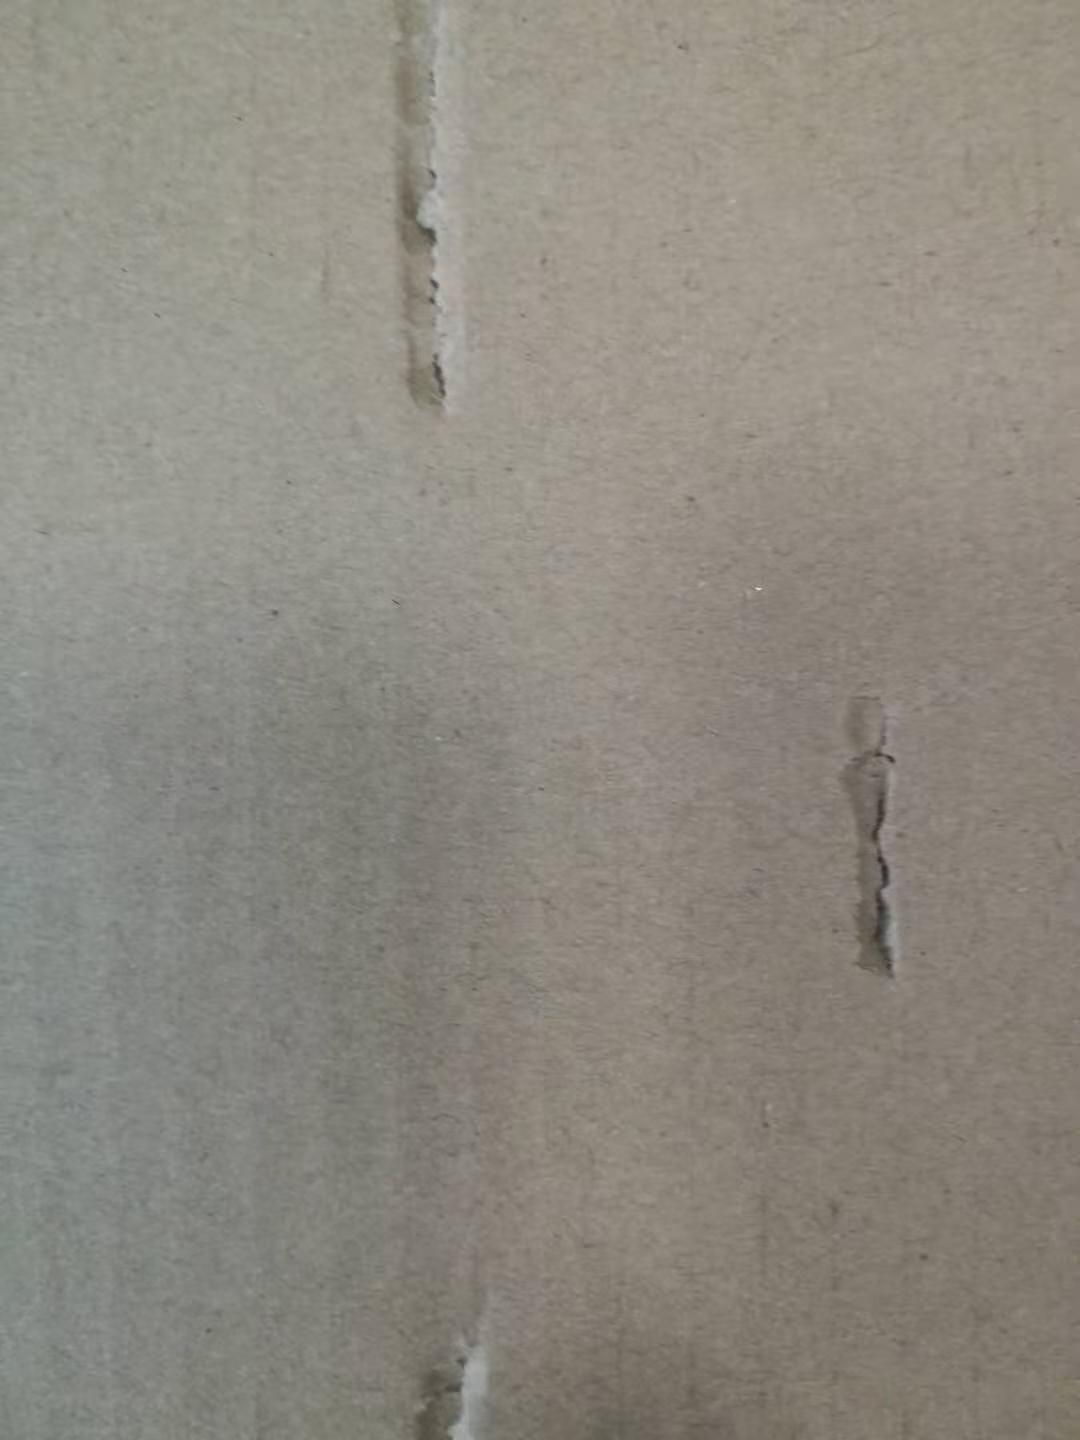defect: (343, 5, 495, 452), (803, 658, 952, 1027), (388, 1265, 511, 1440)
